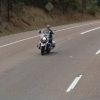Motorcycle: (31, 23, 59, 58)
